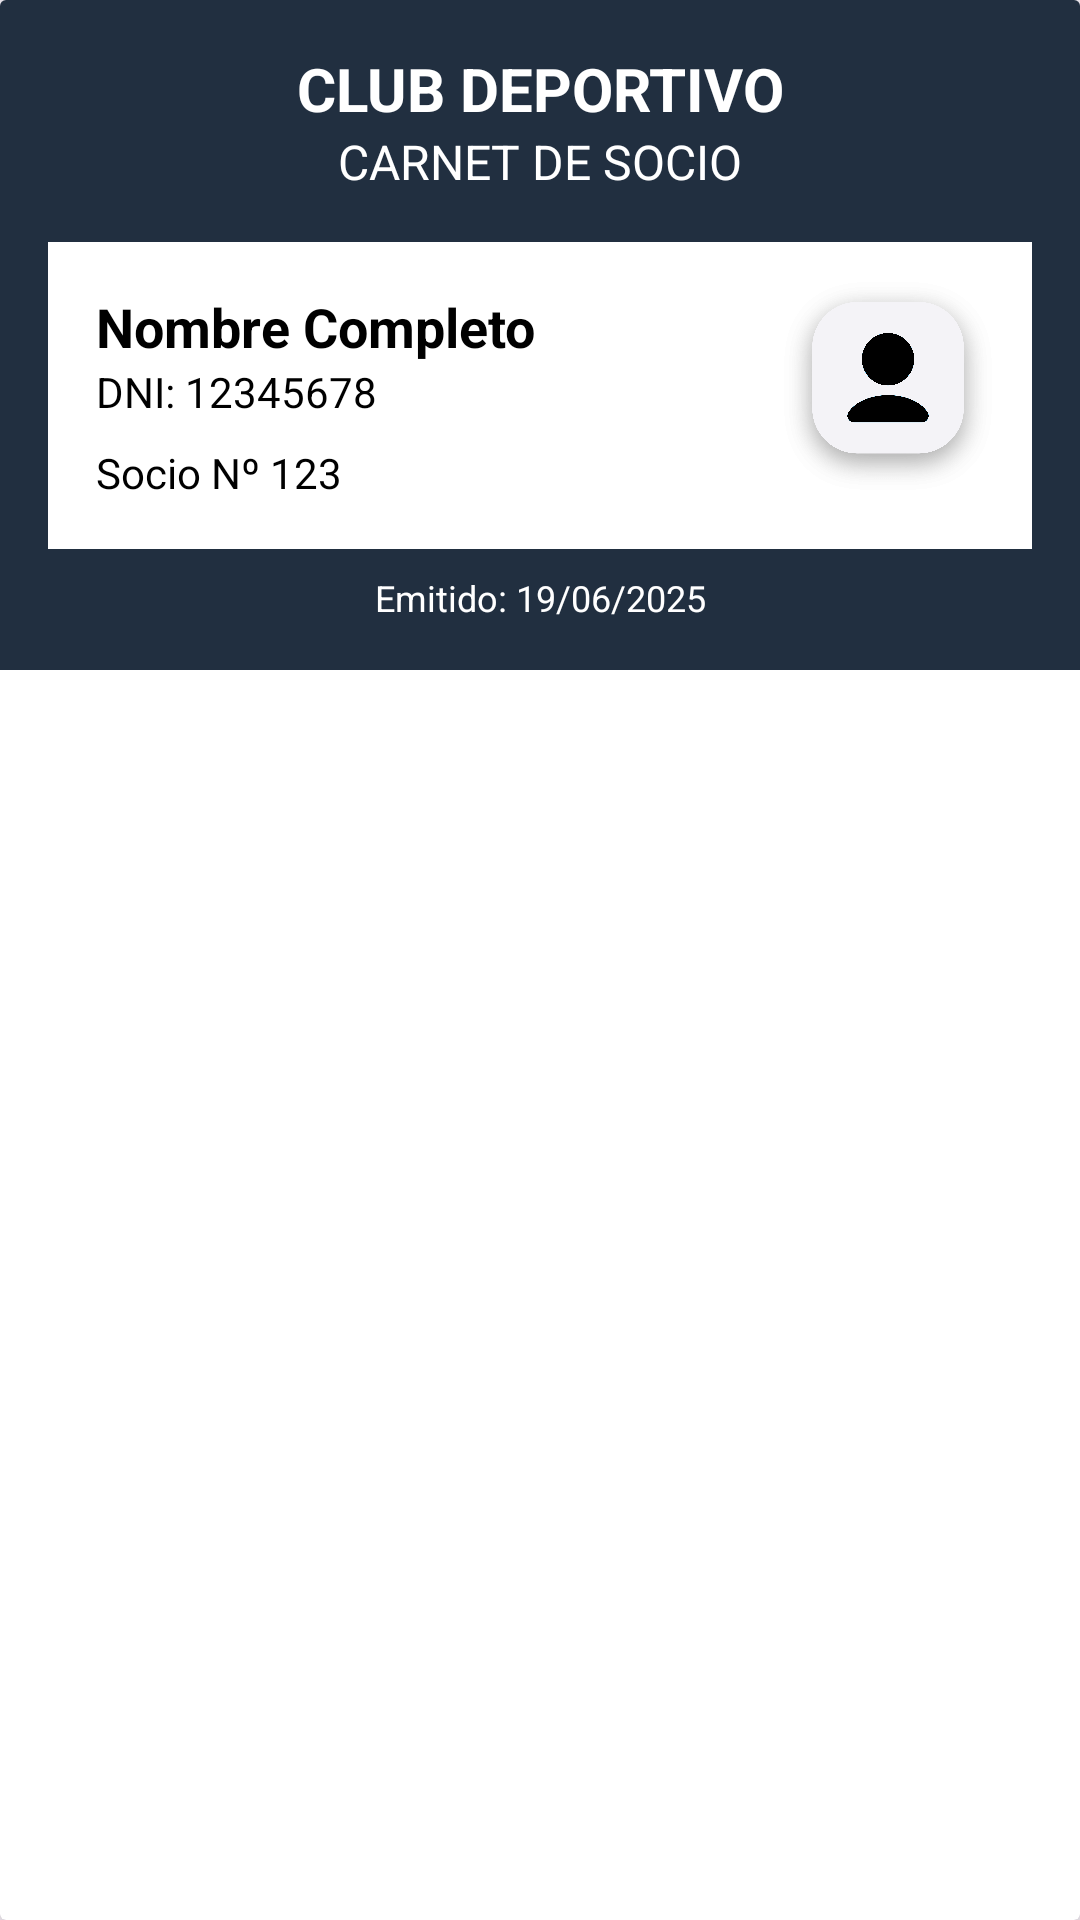

Icons on this 1080px x 1920px Android screen, each with the point to tap as [x,y]:
persona: [888,386]
